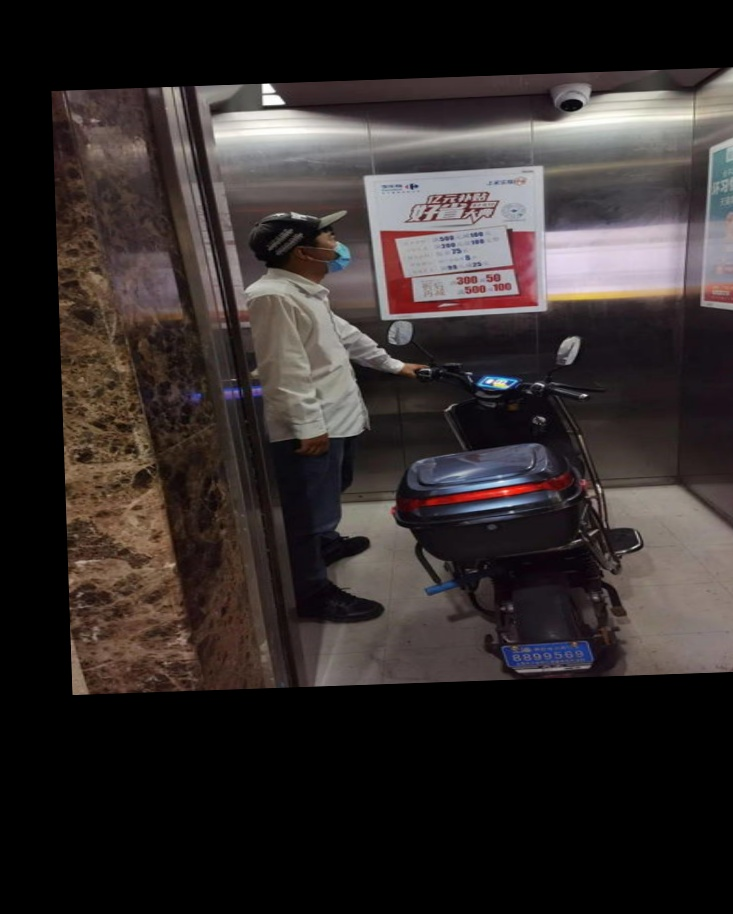ebike: (382, 307, 640, 674)
person: (252, 205, 415, 624)
